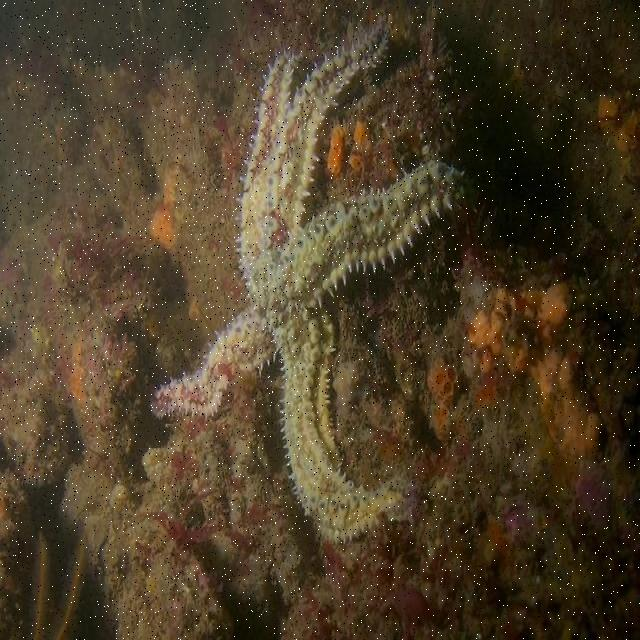reefs: (148, 13, 469, 482)
